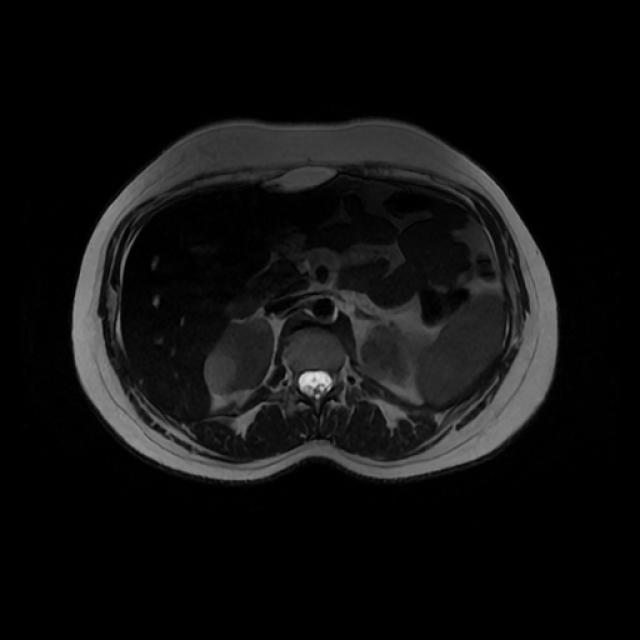sag: (206, 316, 276, 398)
sol: (364, 320, 426, 386)
